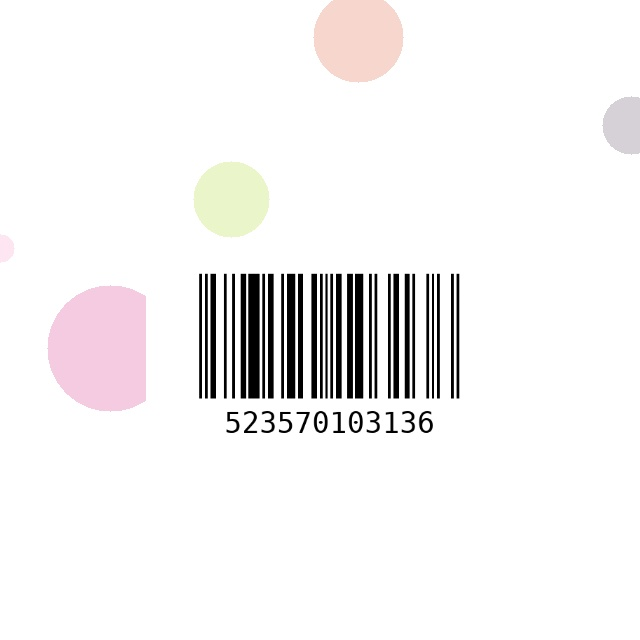barcode: (146, 266, 513, 462)
